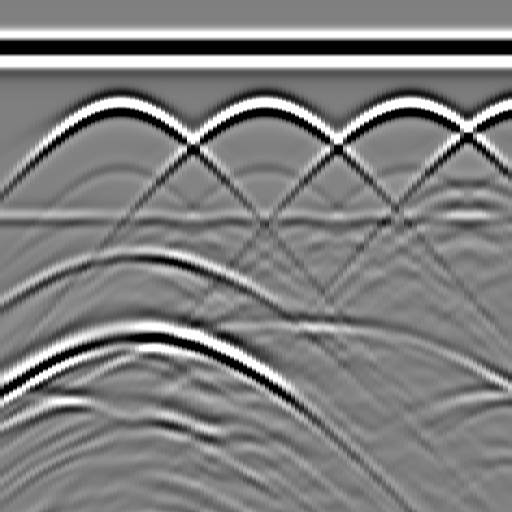grout_surface: (1, 205, 512, 235)
rebar: (98, 86, 138, 126), (243, 86, 283, 126), (387, 86, 427, 126), (502, 86, 512, 126)
rock_surface: (1, 323, 511, 401)
water_void: (106, 228, 166, 268)
